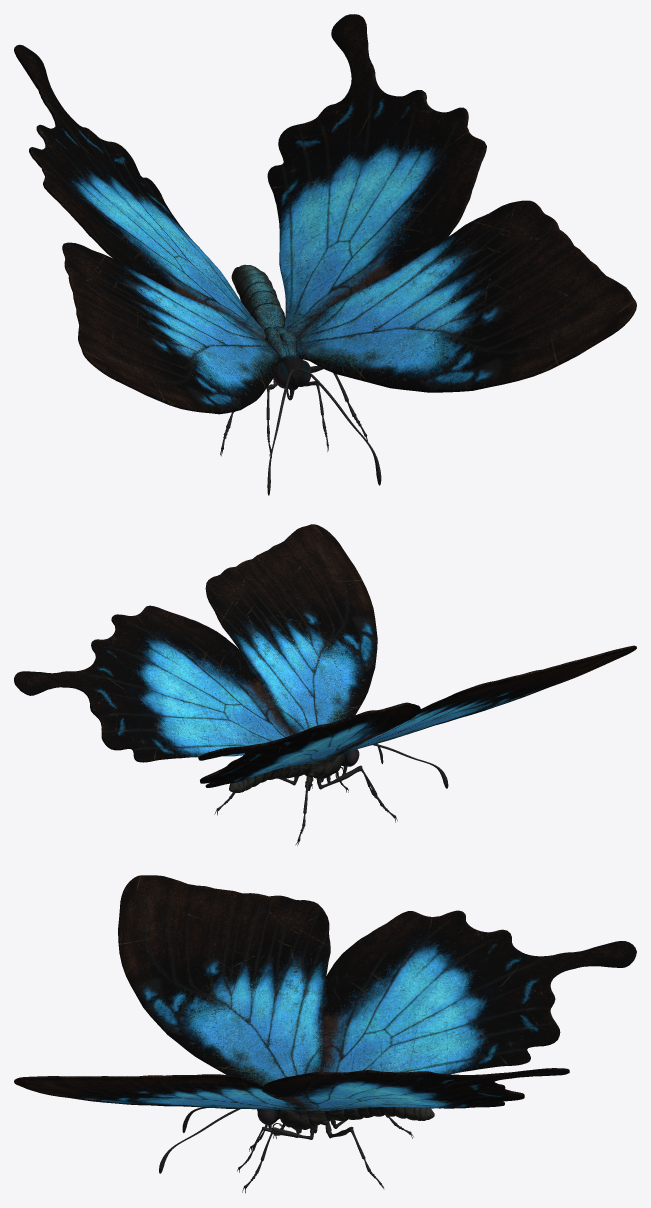
Rendered from blue_butterfly_baked.glb.
The picture shows the model from 3 angles, top to bottom: view 1: azimuth 30°, elevation 25°; view 2: azimuth 150°, elevation 25°; view 3: azimuth 270°, elevation 25°; orthographic projection. The views are drawn at different scales.
Parts seen in each view (by area): view 1: node_id73_1; view 2: node_id73_1; view 3: node_id73_1.
Part boxes in pixels (x1=…): node_id73_1: x1=14, y1=14, x2=636, y2=495; node_id73_1: x1=14, y1=524, x2=636, y2=845; node_id73_1: x1=14, y1=875, x2=636, y2=1193.
Bounding box in the file's own units: 0.5479 × 0.248 × 0.6811.
Materials: 1 (1 with a texture image).
